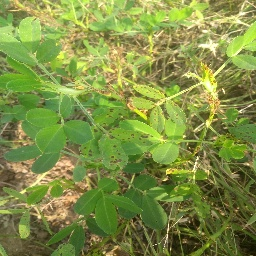GroundNut_Leaf: (6, 57, 46, 90), (139, 192, 167, 231), (100, 135, 128, 169), (96, 193, 117, 236), (227, 22, 256, 53), (34, 127, 66, 155), (74, 181, 94, 216), (19, 20, 40, 51), (151, 143, 180, 165), (25, 109, 62, 124), (118, 121, 156, 135), (132, 83, 164, 99), (68, 120, 91, 141), (18, 208, 33, 239), (165, 117, 185, 140), (68, 224, 82, 256), (26, 183, 49, 202), (4, 147, 31, 163), (33, 158, 58, 175), (41, 40, 64, 57), (233, 54, 256, 71), (18, 94, 44, 108), (134, 174, 154, 190), (98, 178, 118, 191)
